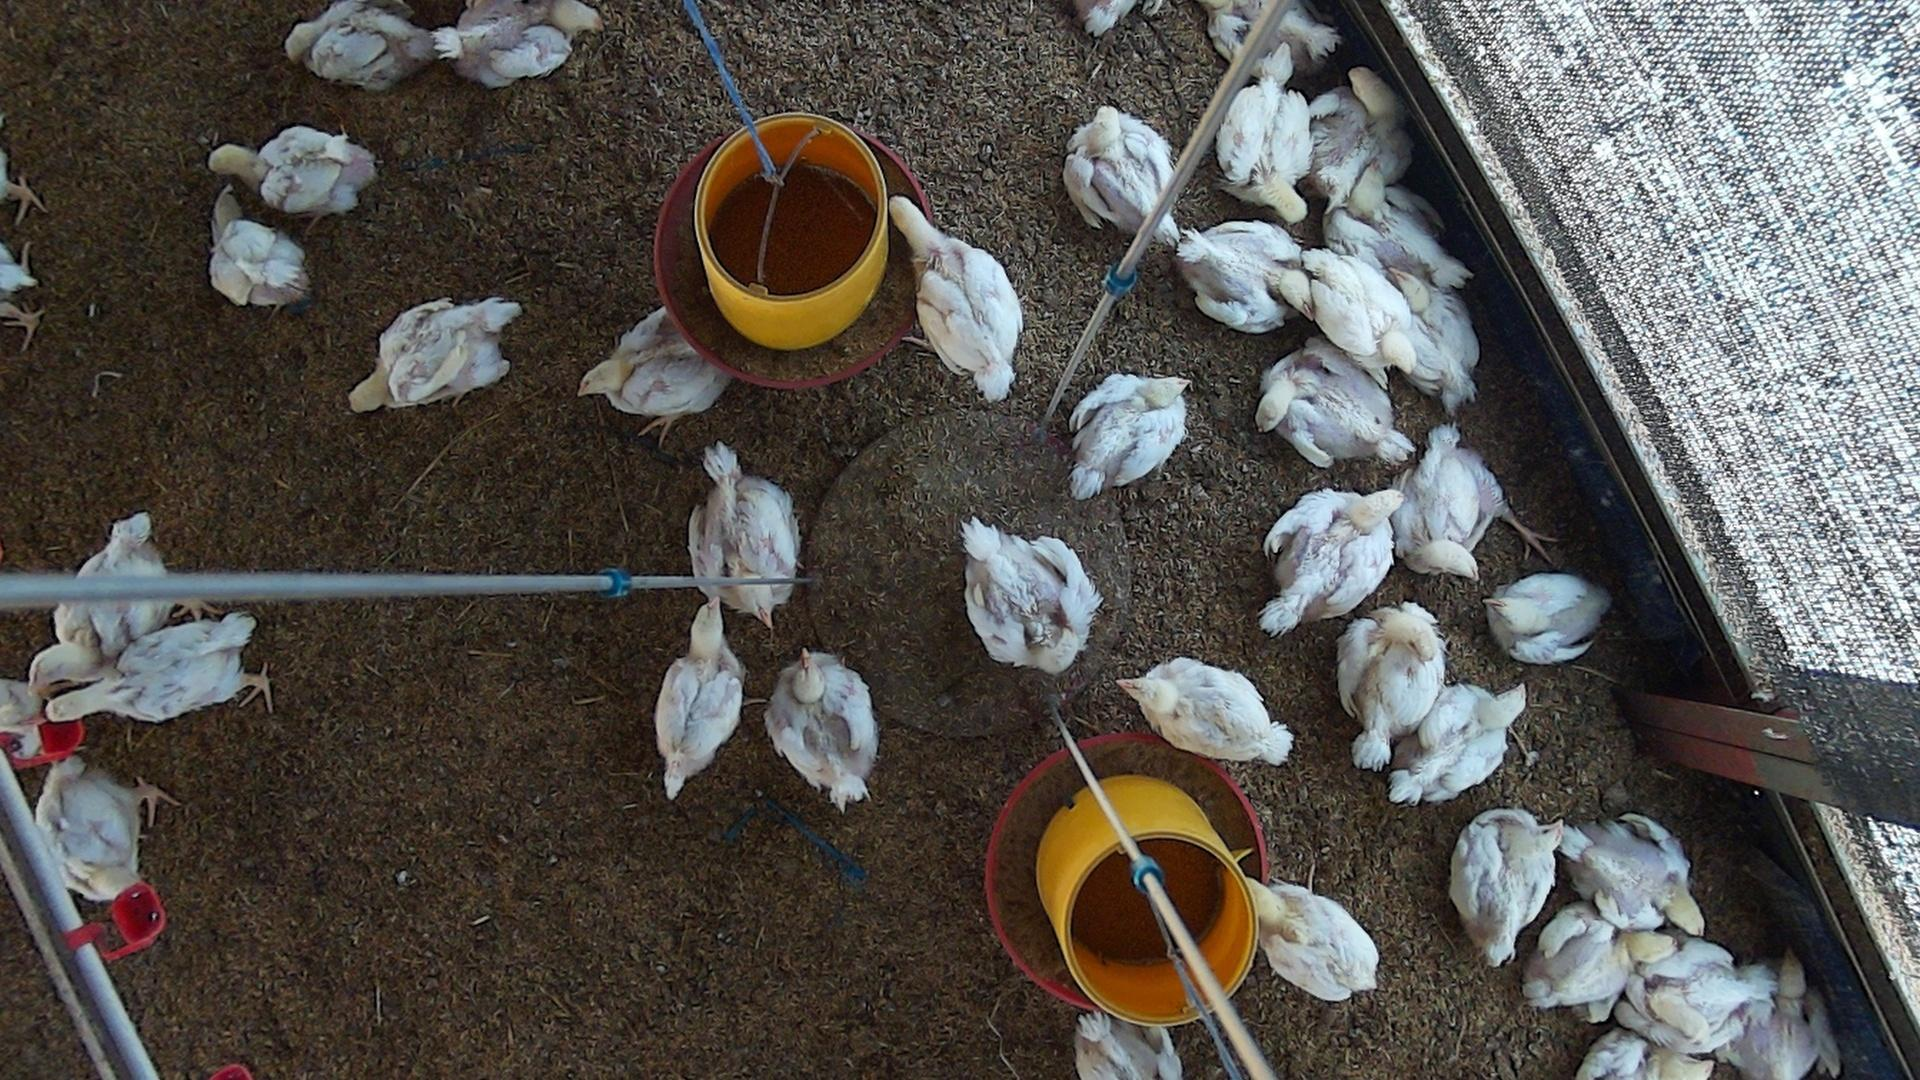ayam_broiler: (32, 512, 216, 696), (1393, 421, 1560, 582), (891, 198, 1022, 400), (45, 611, 274, 720), (963, 516, 1100, 673), (33, 757, 182, 901), (578, 305, 725, 447), (1259, 487, 1399, 632), (690, 442, 802, 622), (347, 295, 520, 410), (1255, 343, 1411, 467), (1523, 902, 1677, 1023), (1324, 160, 1468, 289), (1552, 815, 1705, 935), (1247, 862, 1379, 1001), (766, 647, 878, 810), (1337, 603, 1447, 767), (1121, 657, 1291, 762), (1216, 44, 1315, 224), (1618, 938, 1771, 1054), (655, 597, 744, 798), (1449, 807, 1556, 964), (1389, 682, 1527, 802), (1174, 220, 1309, 332), (1309, 67, 1412, 214), (1069, 373, 1188, 498), (210, 125, 377, 214), (433, 1, 601, 88), (1064, 105, 1176, 235), (1386, 266, 1481, 417), (1303, 251, 1415, 375), (285, 0, 443, 87), (1727, 957, 1838, 1080), (208, 185, 309, 306), (1489, 574, 1610, 663), (1208, 3, 1338, 75), (1075, 1010, 1180, 1080)
